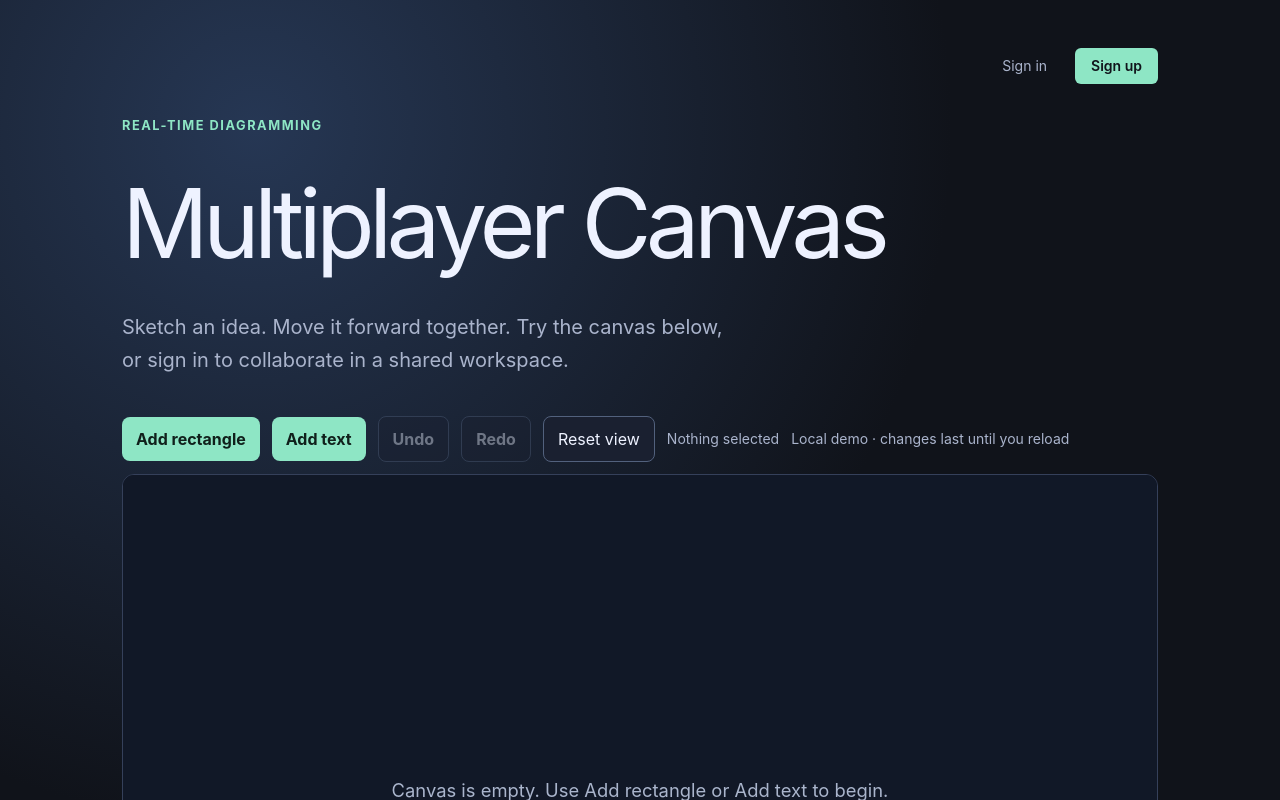
Test: home page › renders the collaborative editor and adds a rectangle
Check: the heading "Multiplayer Canvas" is shown, box [122,165,884,281]
Click the button "Add rectangle".
click(191, 439)  # box [122,417,260,461]
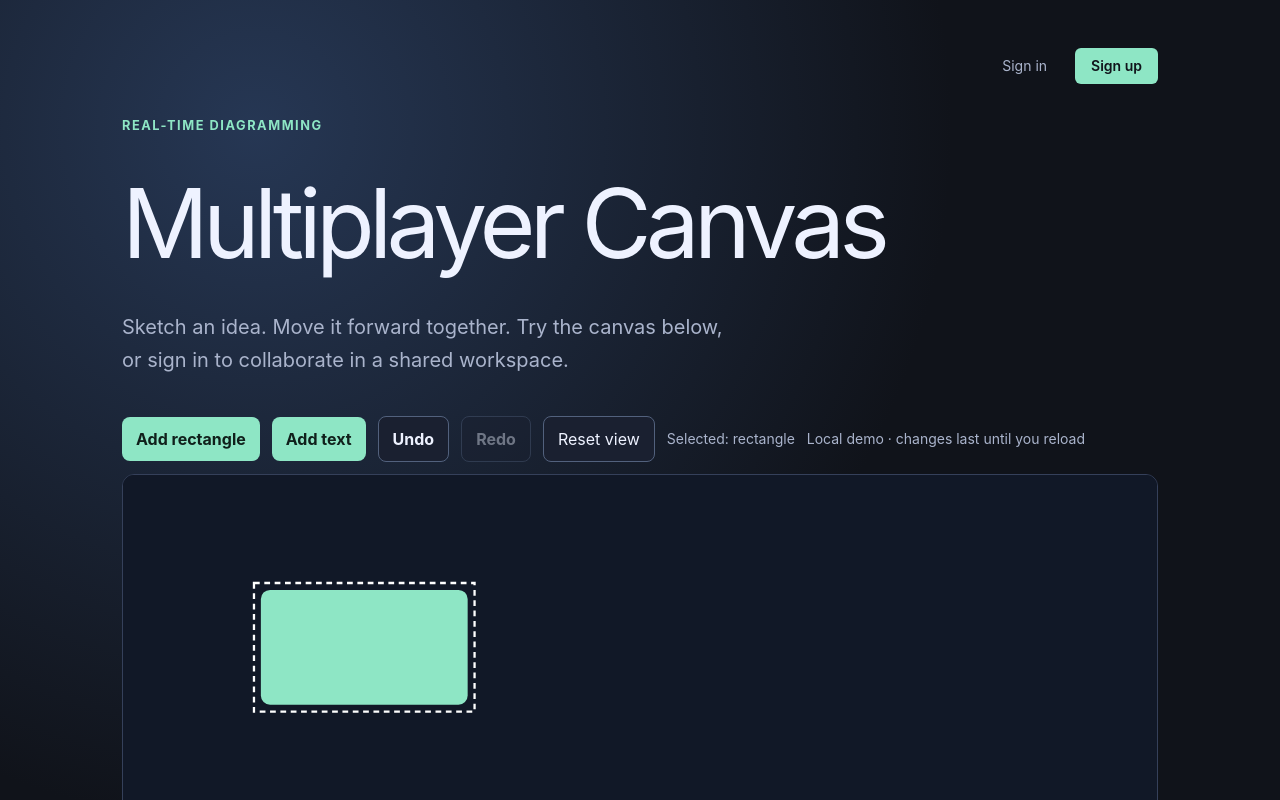
Check: the text "Selected: rectangle" is shown, box [667,429,795,449]
